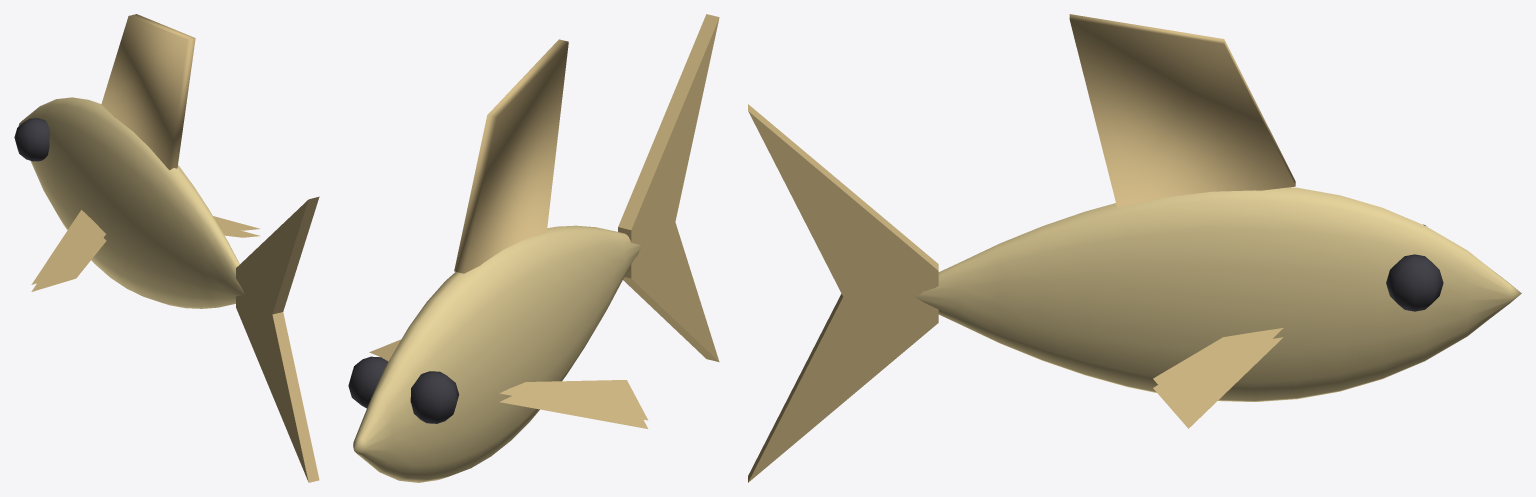
File: fish_muted_gold.glb
3 views of the same model, side by side, from view 1: azimuth 30°, elevation 25°; view 2: azimuth 150°, elevation 25°; view 3: azimuth 270°, elevation 25° (orthographic). The views are drawn at different scales.
Visible parts, largest first — view 1: Fish_Body, Fish_Fins, Fish_TailFin, Fish_Eyes; view 2: Fish_Body, Fish_Fins, Fish_TailFin, Fish_Eyes; view 3: Fish_Body, Fish_Fins, Fish_TailFin, Fish_Eyes.
Boxes of the visible parts, <box> form: Fish_Body: <box>18,97,244,308</box>; Fish_Fins: <box>31,14,260,291</box>; Fish_TailFin: <box>236,196,319,482</box>; Fish_Eyes: <box>14,118,49,161</box>; Fish_Body: <box>353,225,641,482</box>; Fish_Fins: <box>369,39,648,428</box>; Fish_TailFin: <box>618,14,719,362</box>; Fish_Eyes: <box>348,356,459,423</box>; Fish_Body: <box>915,187,1521,401</box>; Fish_Fins: <box>1069,14,1295,428</box>; Fish_TailFin: <box>748,104,938,482</box>; Fish_Eyes: <box>1386,224,1443,311</box>.
Bounding box in the file's own units: 0.3392 × 0.4976 × 0.754.
